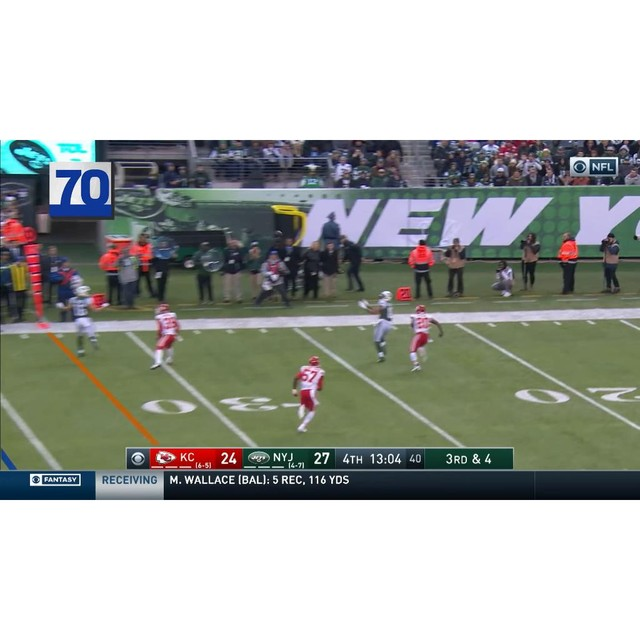american-football-player: (64, 284, 108, 357), (360, 288, 397, 364), (290, 356, 326, 433), (408, 304, 443, 372), (148, 302, 182, 369)
